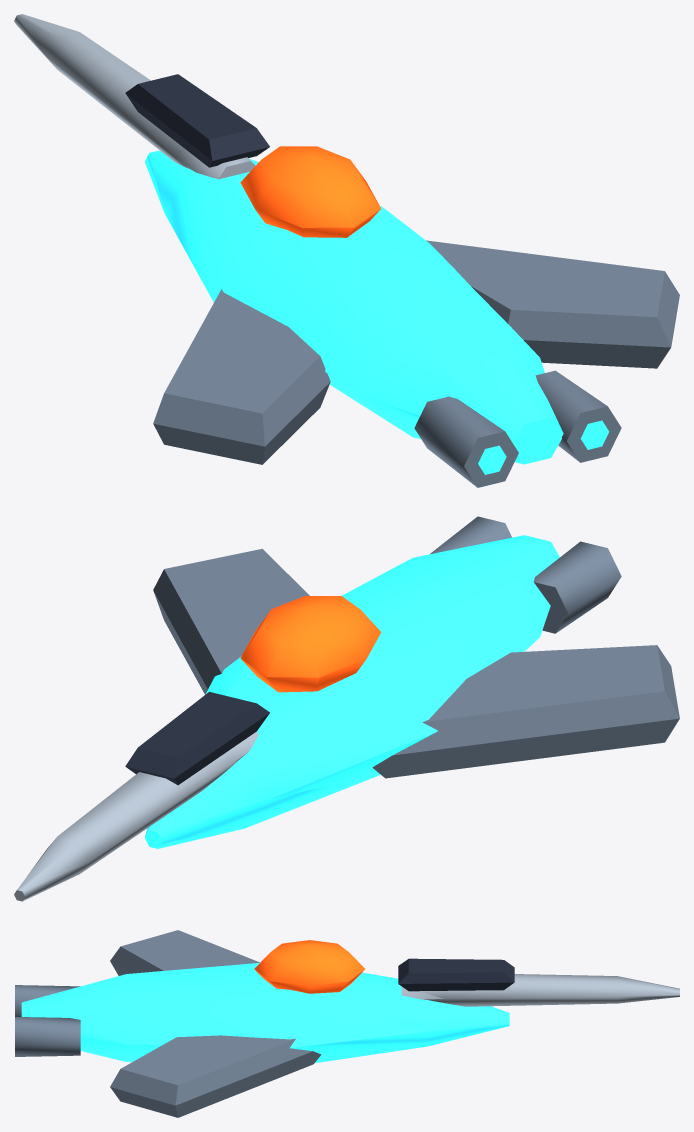
File: sniper_enemy_mockup.glb
3 renders of one model, top to bottom at view 1: azimuth 30°, elevation 25°; view 2: azimuth 150°, elevation 25°; view 3: azimuth 270°, elevation 25°, orthographic. The views are drawn at different scales.
Parts seen in each view (by area): view 1: SNIPER // LONGBOW Mk II; view 2: SNIPER // LONGBOW Mk II; view 3: SNIPER // LONGBOW Mk II.
Boxes of the visible parts, <box> form: SNIPER // LONGBOW Mk II: <box>14,14,679,487</box>; SNIPER // LONGBOW Mk II: <box>14,516,679,901</box>; SNIPER // LONGBOW Mk II: <box>15,930,679,1117</box>.
Bounding box in the file's own units: 2.36 × 0.7025 × 4.07.
